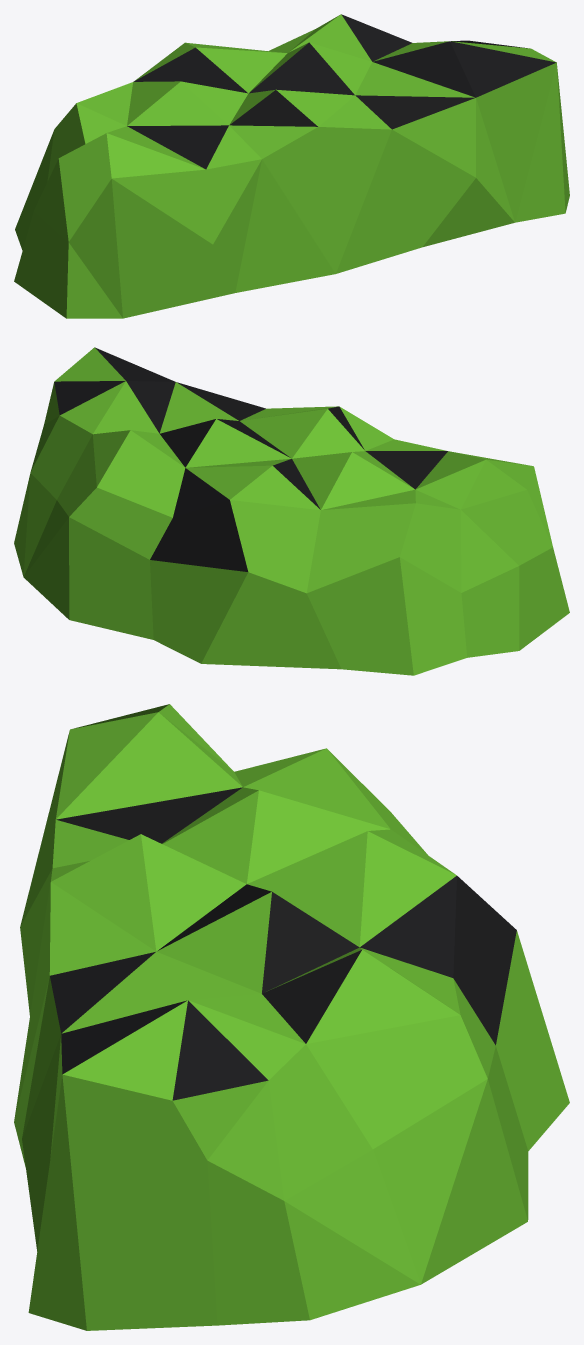
Rendered from grass_field_semicircle.fbx.
The picture shows the model from 3 angles, top to bottom: view 1: azimuth 30°, elevation 25°; view 2: azimuth 150°, elevation 25°; view 3: azimuth 270°, elevation 25°; orthographic projection. The views are drawn at different scales.
Parts seen in each view (by area): view 1: grass_semicircle; view 2: grass_semicircle; view 3: grass_semicircle.
Part boxes in pixels (<box>): grass_semicircle: <box>14,14,569,318</box>; grass_semicircle: <box>14,347,569,675</box>; grass_semicircle: <box>14,704,569,1330</box>.
Bounding box in the file's own units: 101 × 31.73 × 57.49.
